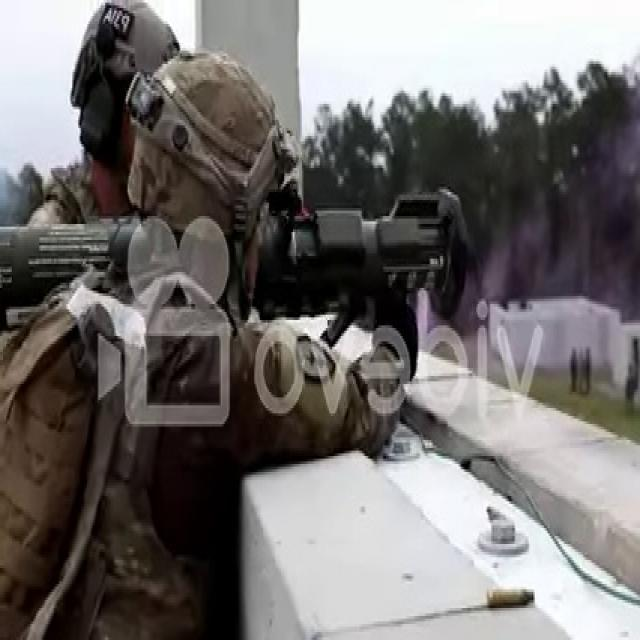rocket: (0, 190, 462, 308)
